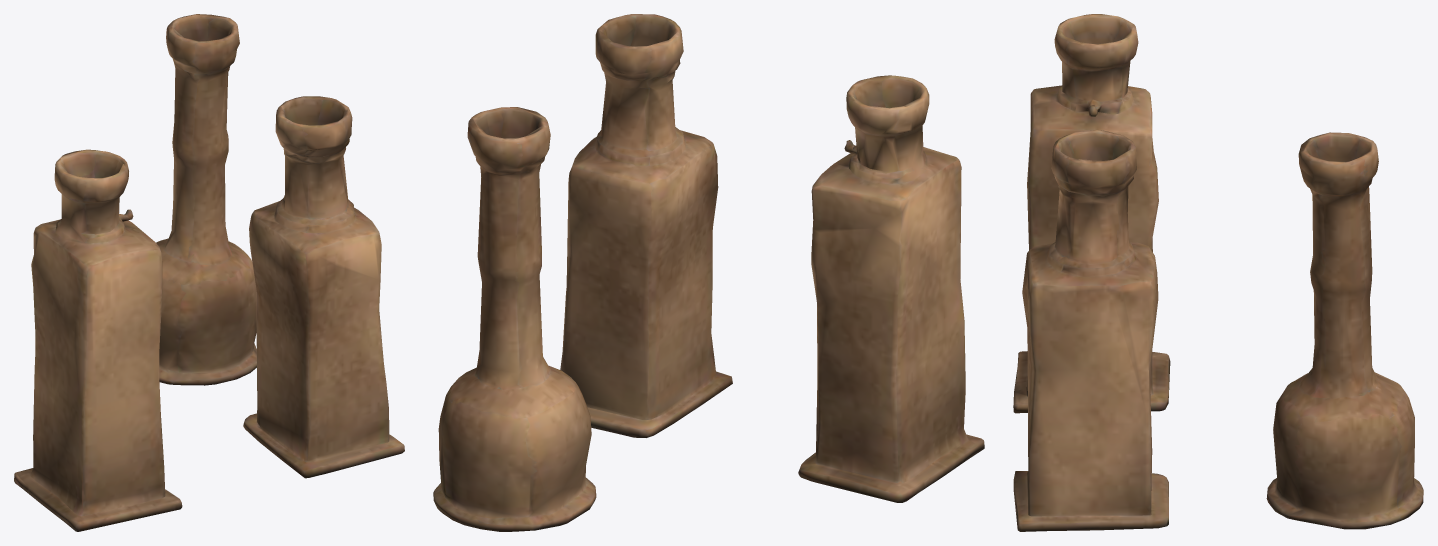
Rendered from worn-sandstone-chimney-stack-v001.glb.
3 views of the same model, side by side, from view 1: azimuth 30°, elevation 25°; view 2: azimuth 150°, elevation 25°; view 3: azimuth 270°, elevation 25° (orthographic). The views are drawn at different scales.
Parts seen in each view (by area): view 1: worn-sandstone-chimney-stack; view 2: worn-sandstone-chimney-stack; view 3: worn-sandstone-chimney-stack.
Part boxes in pixels (x1=…): worn-sandstone-chimney-stack: x1=14, y1=14, x2=404, y2=531; worn-sandstone-chimney-stack: x1=433, y1=14, x2=984, y2=531; worn-sandstone-chimney-stack: x1=1013, y1=14, x2=1423, y2=531.
Size of the model in its own units: 1.52 by 1.46 by 1.52.
Materials: 1 (1 with a texture image).
